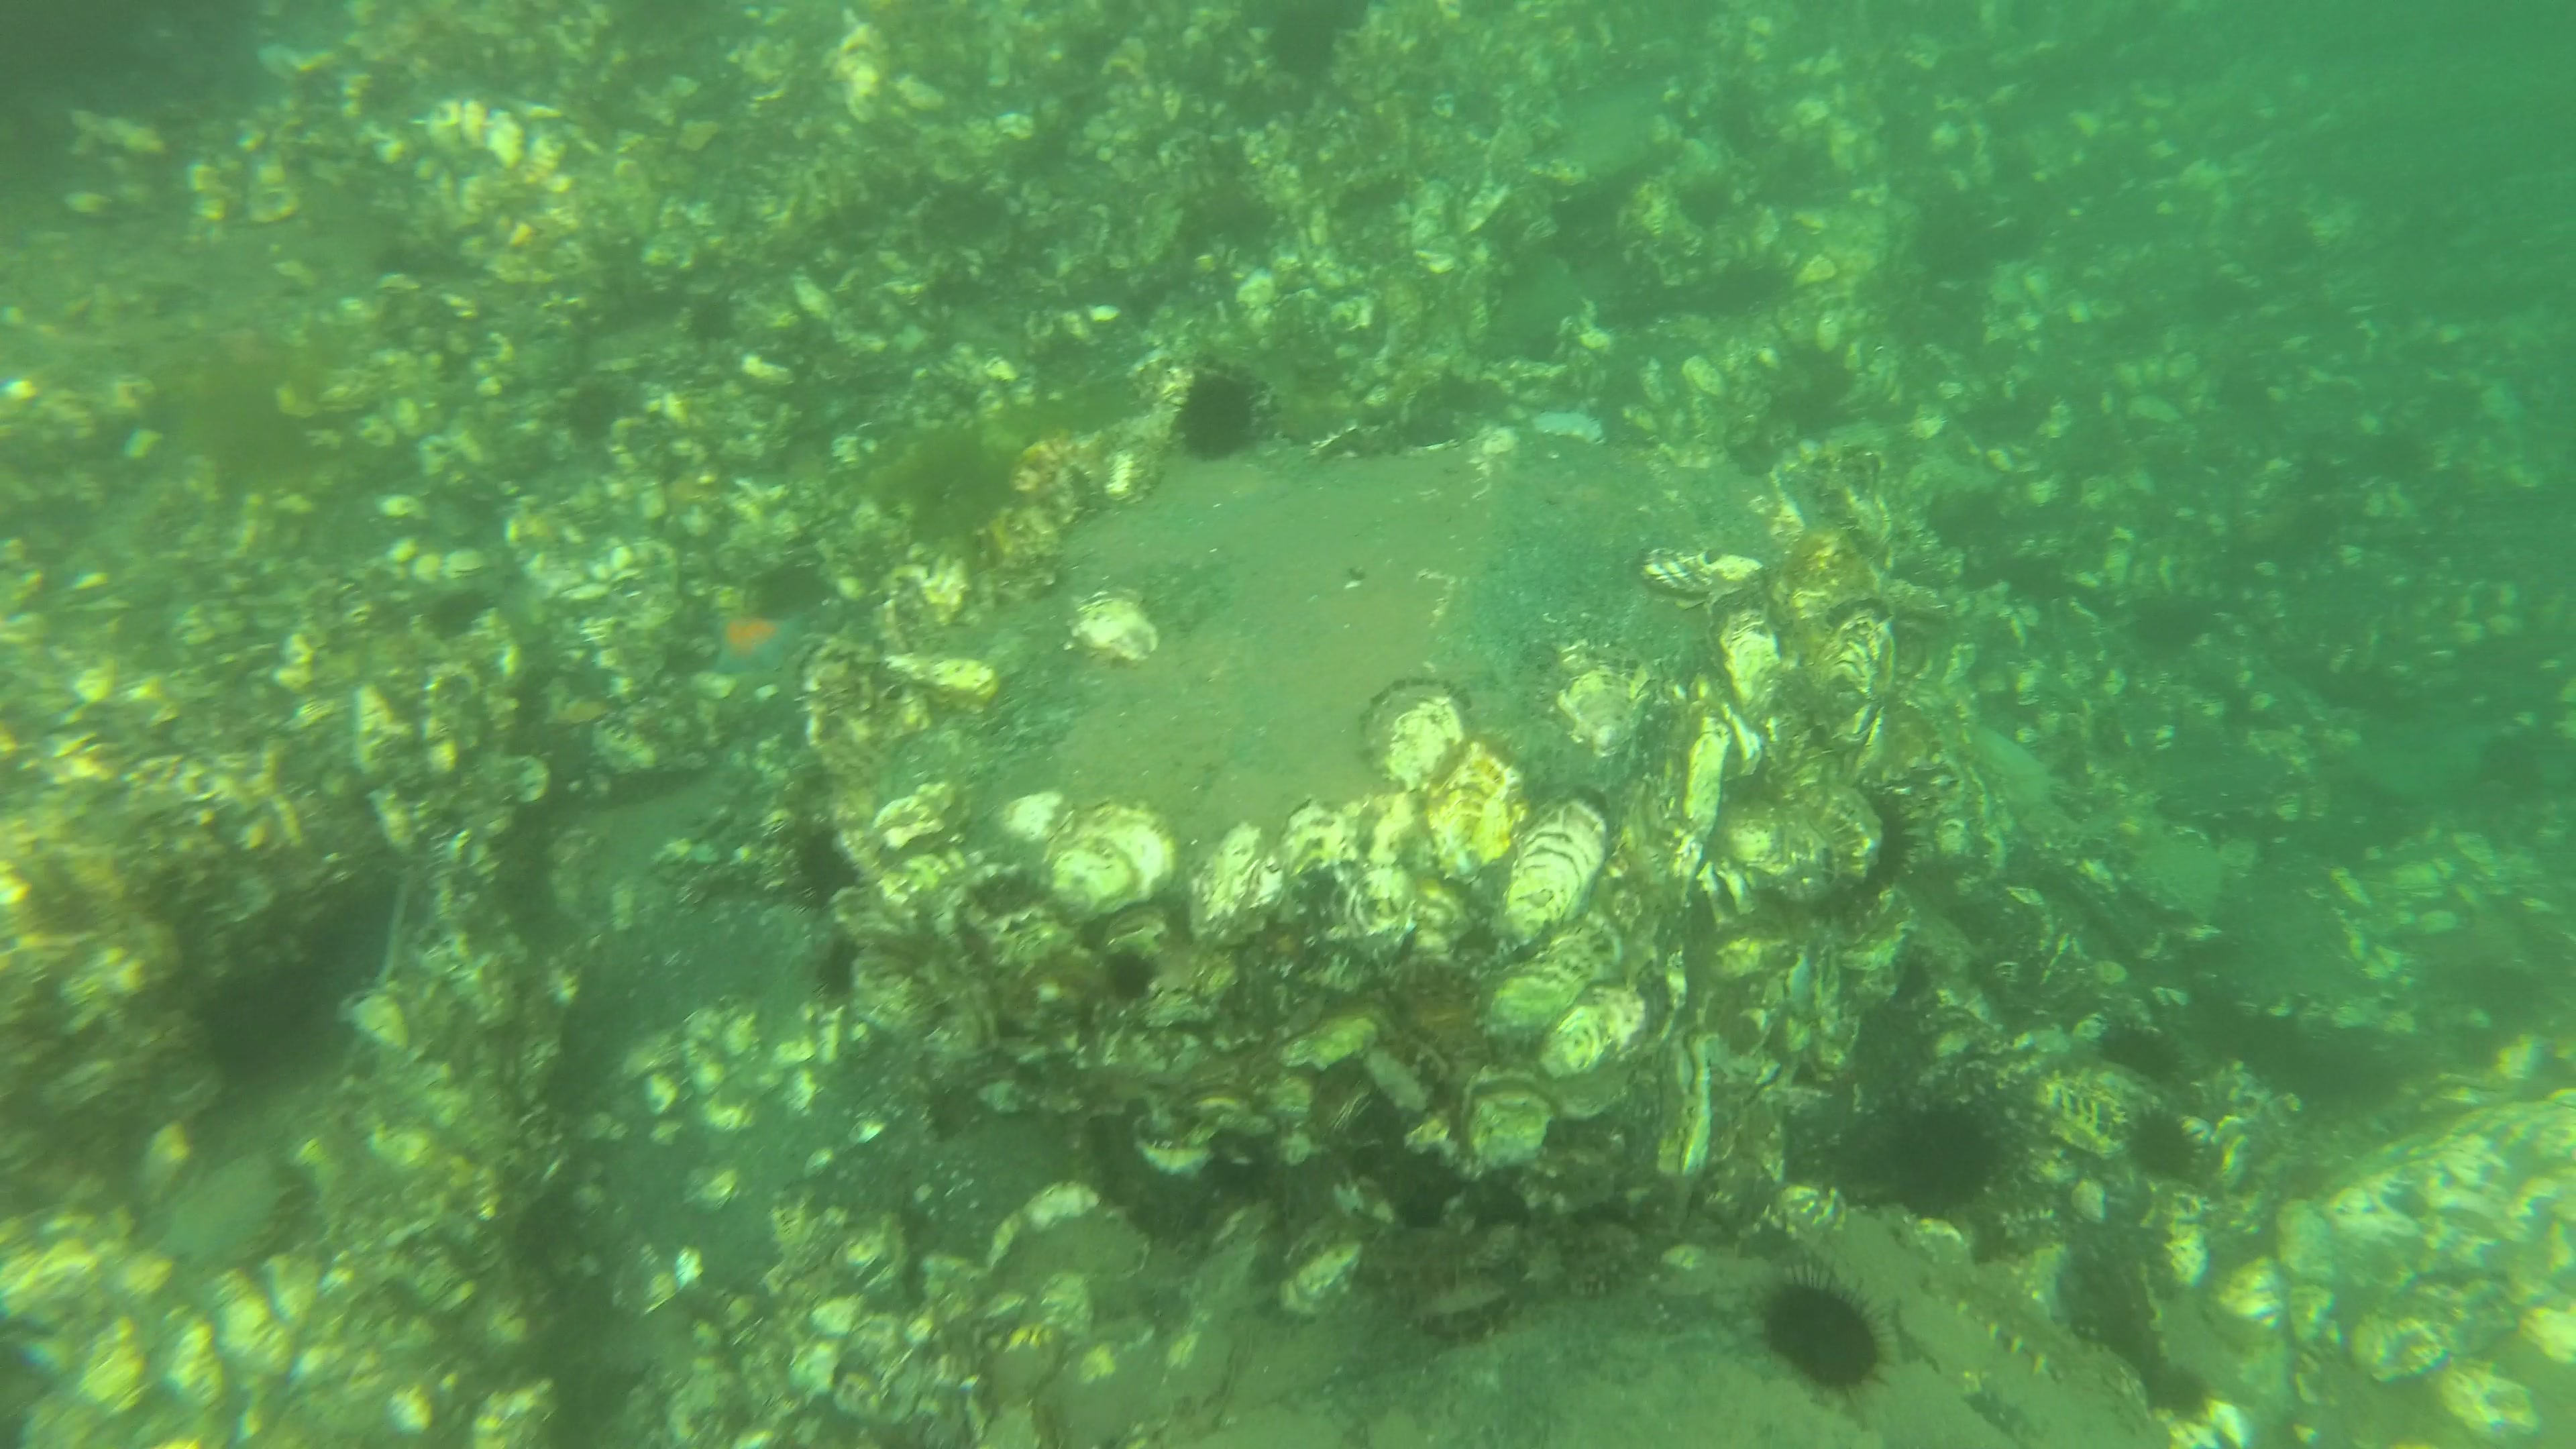echinus: (1755, 1260, 1897, 1410), (1815, 770, 1927, 911), (1881, 1097, 2005, 1219), (961, 863, 1074, 970), (1164, 366, 1274, 462), (2123, 1104, 2204, 1194), (2100, 1014, 2185, 1093), (786, 830, 860, 908), (419, 582, 494, 646), (2137, 586, 2204, 655), (566, 377, 632, 446), (812, 938, 876, 1007), (1097, 950, 1164, 1012), (2146, 1362, 2204, 1422), (1677, 175, 1739, 230), (1884, 947, 1937, 1010), (681, 290, 736, 347), (658, 633, 708, 683), (1230, 78, 1276, 129)
holothurian: (1944, 1274, 2086, 1387), (1352, 1240, 1518, 1290)
starfish: (704, 610, 805, 681)
